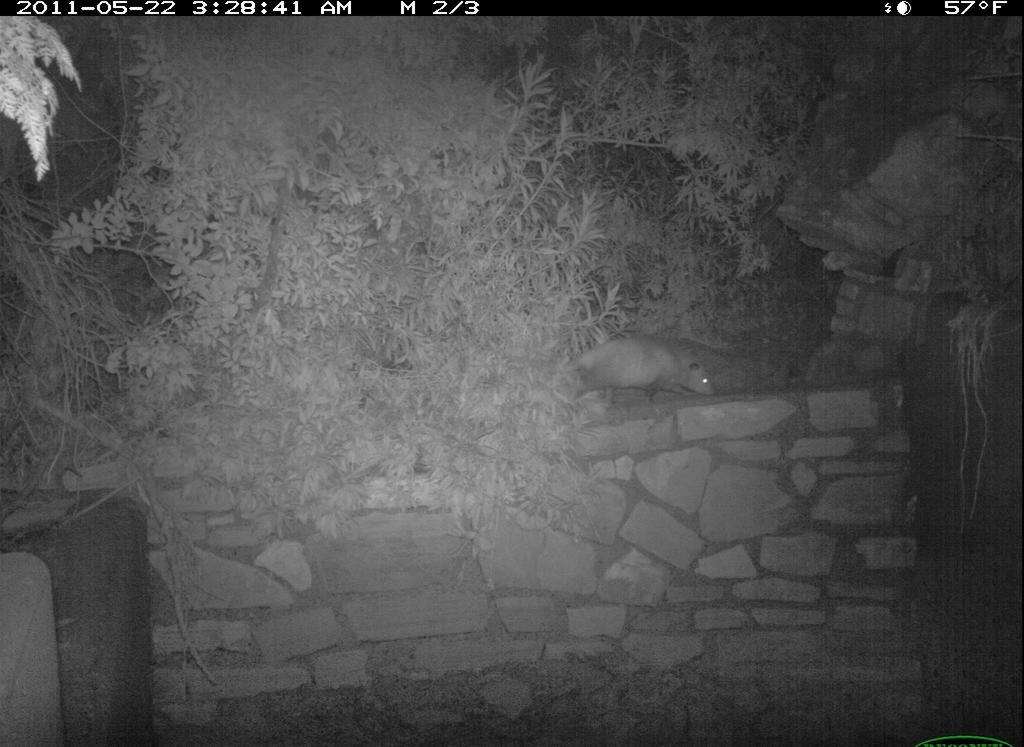opossum: (542, 324, 724, 415)
